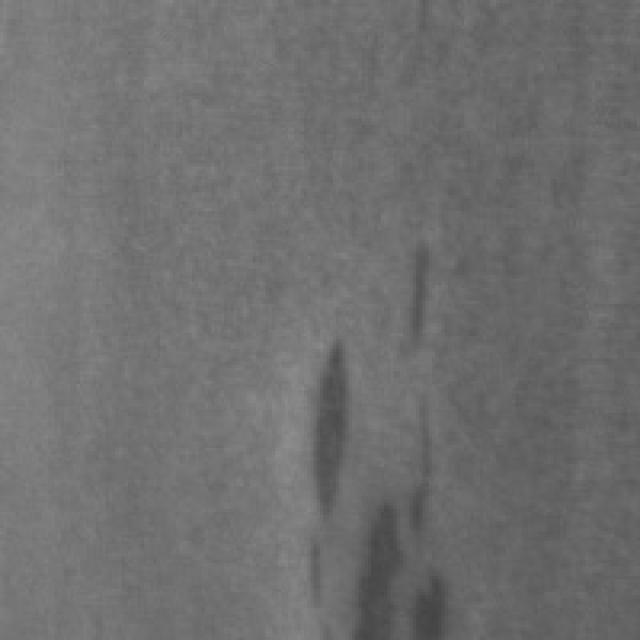inclusion: (298, 294, 444, 634), (291, 320, 355, 525), (378, 233, 442, 364)
